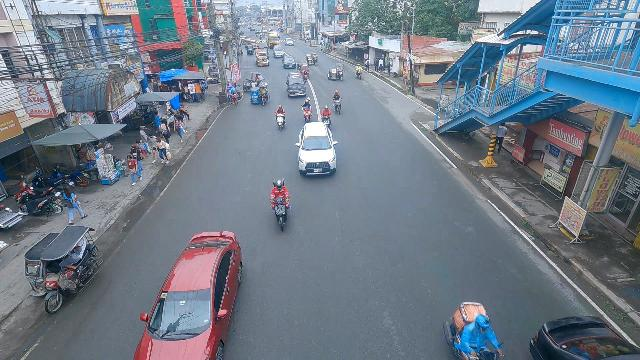car: (130, 230, 245, 360), (295, 121, 337, 177), (282, 55, 296, 70), (273, 45, 285, 58), (285, 38, 294, 46)
jeepney: (254, 47, 270, 68)
motorcycle: (268, 176, 293, 231), (274, 105, 287, 131), (301, 100, 313, 123), (332, 91, 343, 116), (354, 64, 364, 81), (259, 35, 262, 43)
truck: (266, 31, 280, 48)
van: (285, 71, 306, 98)
